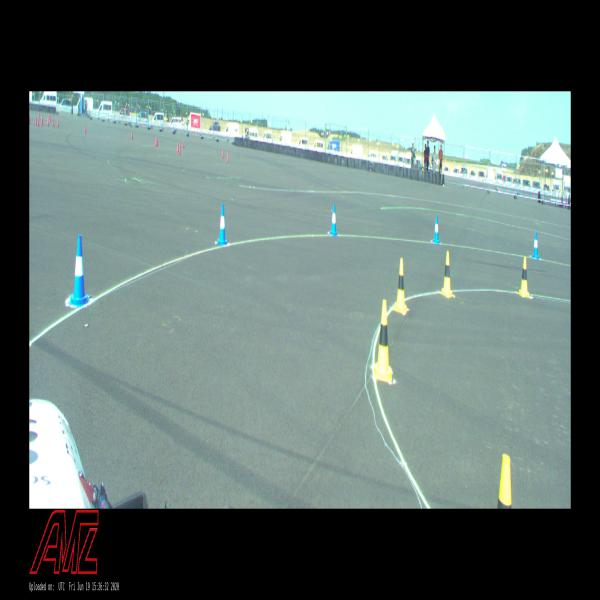blue_cone: (67, 235, 90, 306), (217, 204, 227, 245), (329, 204, 338, 236), (433, 216, 440, 244), (532, 232, 539, 260)
orange_cone: (179, 144, 181, 155), (154, 136, 156, 147), (222, 148, 224, 159), (226, 152, 228, 162), (177, 143, 179, 152), (131, 131, 133, 140), (157, 136, 158, 146), (183, 140, 184, 148)
yellow_cone: (373, 300, 392, 384), (497, 454, 512, 508), (393, 258, 406, 314), (441, 250, 453, 298), (518, 257, 530, 297)
